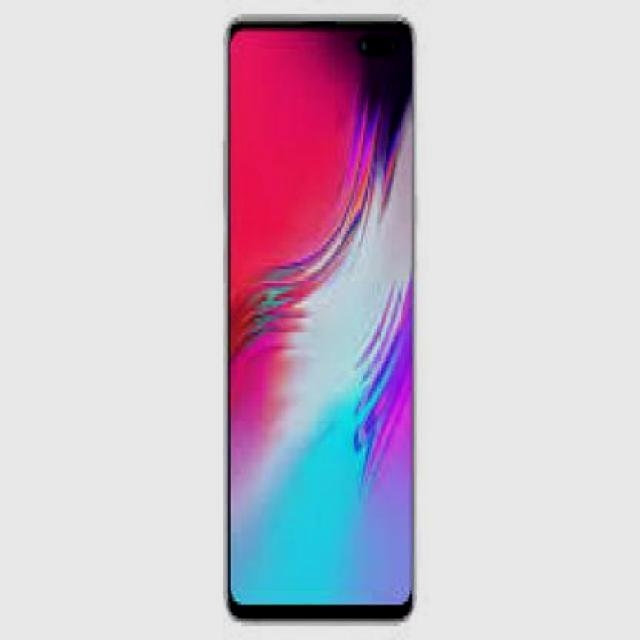phone: (223, 21, 414, 618)
